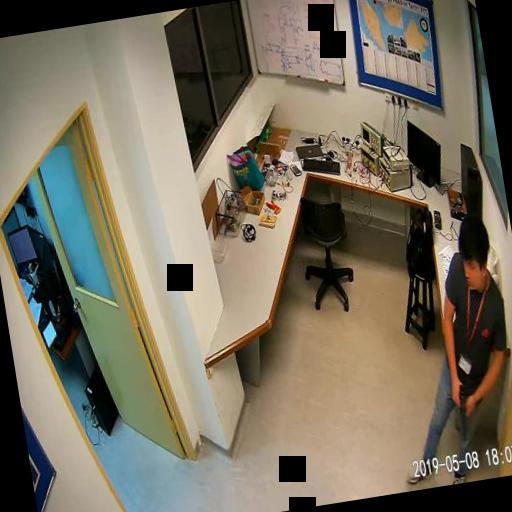Handgun: (448, 383, 472, 438)
